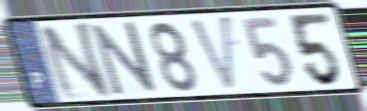5: (285, 11, 343, 88), (239, 14, 297, 89)
8: (149, 19, 199, 94)
N: (36, 19, 114, 103), (89, 19, 160, 98)
V: (186, 12, 236, 95)
